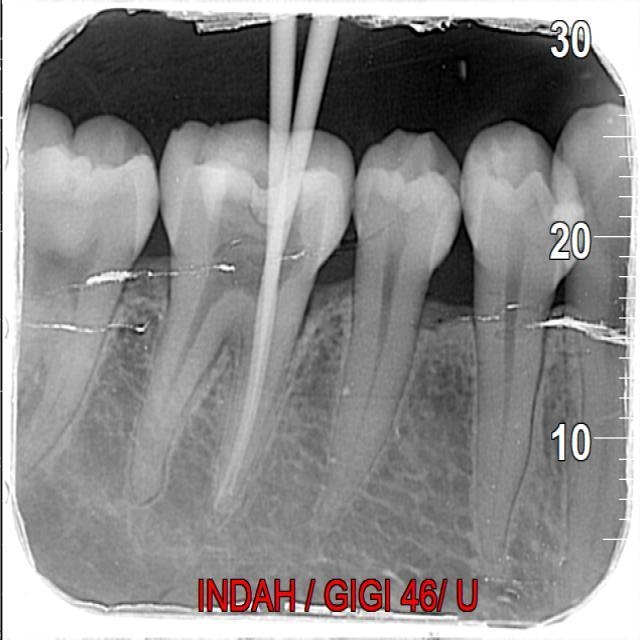individual-tooth-8tto: (128, 127, 355, 544), (462, 123, 596, 576), (321, 127, 465, 509)
